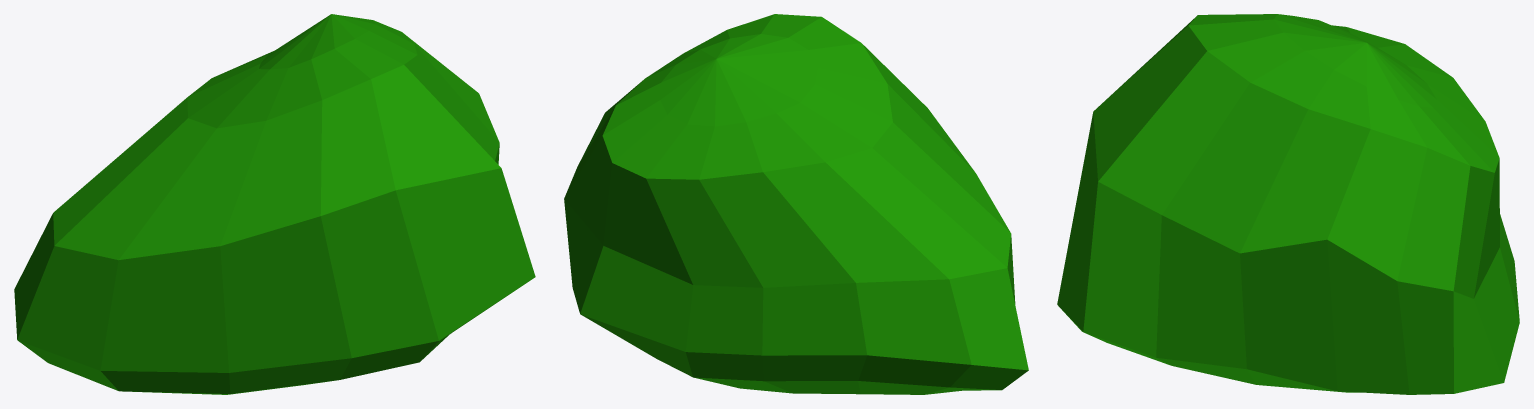
File: bush3_001.FBX
The picture shows the model from 3 angles, left to right: view 1: azimuth 30°, elevation 25°; view 2: azimuth 150°, elevation 25°; view 3: azimuth 270°, elevation 25°; orthographic projection. The views are drawn at different scales.
Parts seen in each view (by area): view 1: bush3_001; view 2: bush3_001; view 3: bush3_001.
Boxes of the visible parts, x1,y1,x2,y2 form: bush3_001: (14,14,535,394); bush3_001: (564,14,1028,394); bush3_001: (1057,14,1519,394).
Bounding box in the file's own units: 112 × 71.5 × 82.77.
